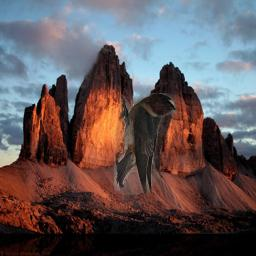Swallow: (114, 93, 176, 195)
